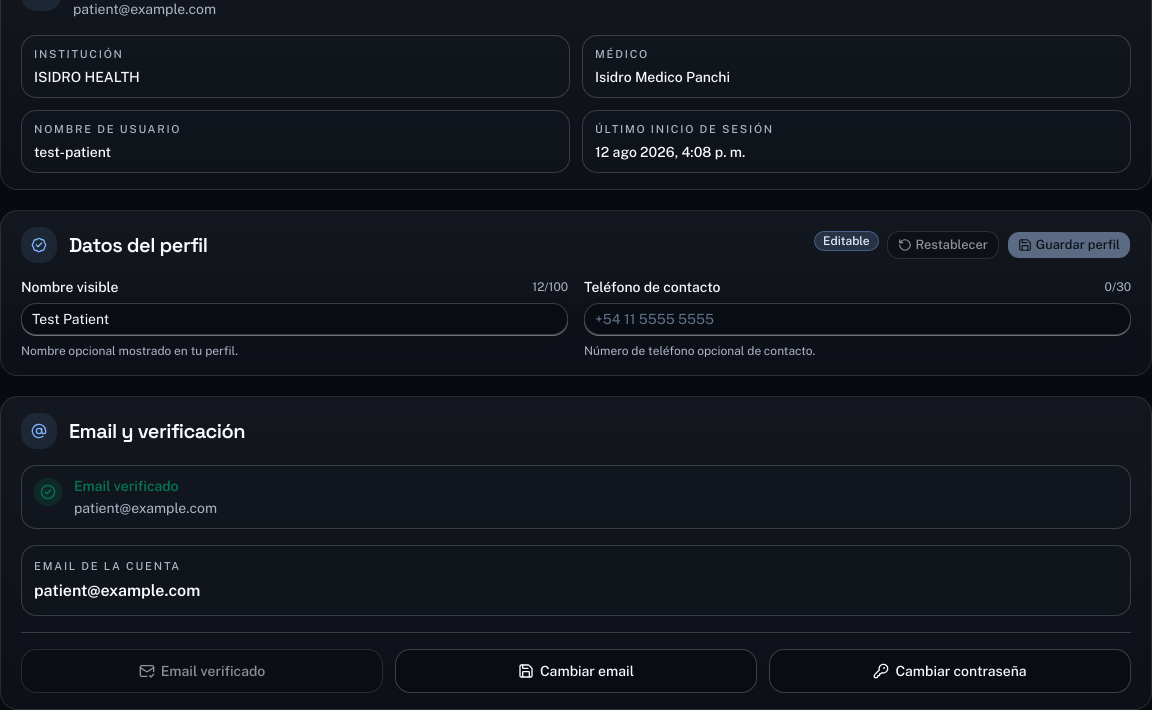
it: MyAccountWorkbench diagnostics › shows the account synchronization results after changing email
(page scrolled)
Click the button "Cambiar email" at (576, 671), box [395,649,757,693]
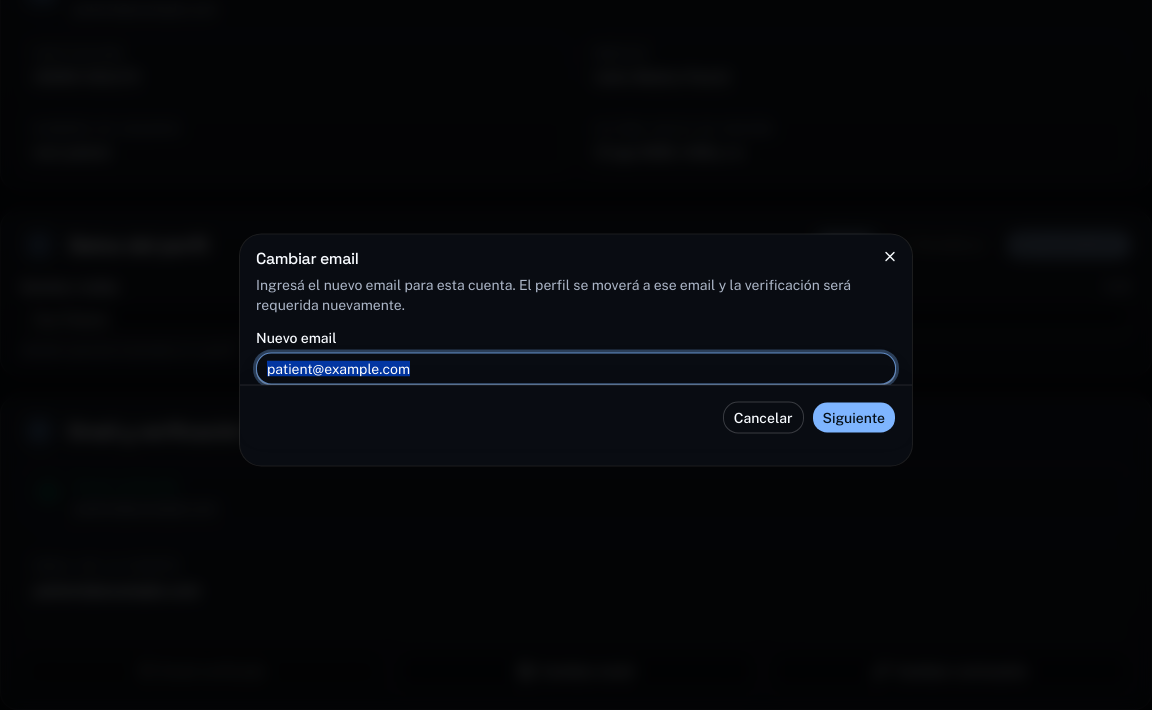
Replace the text in the field labelled "Nuevo email" with "new@example.com" at (576, 368), box [256,352,896,384]
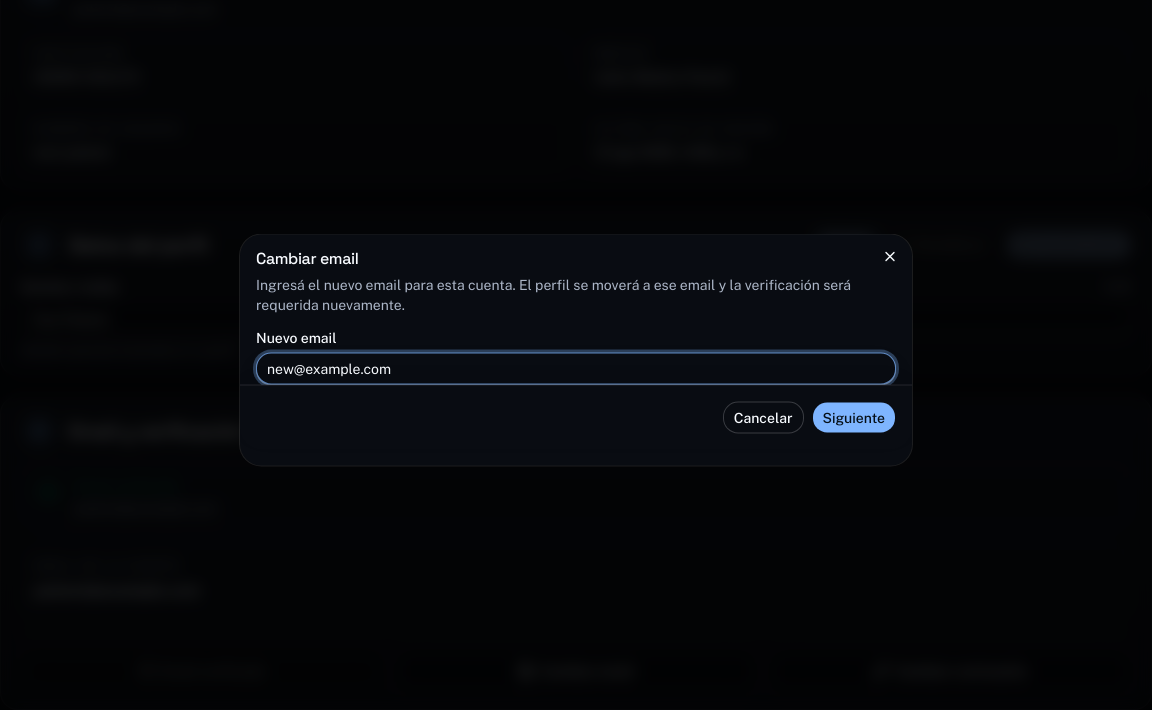
Click the button "Siguiente" at (854, 418), box [812,402,896,434]
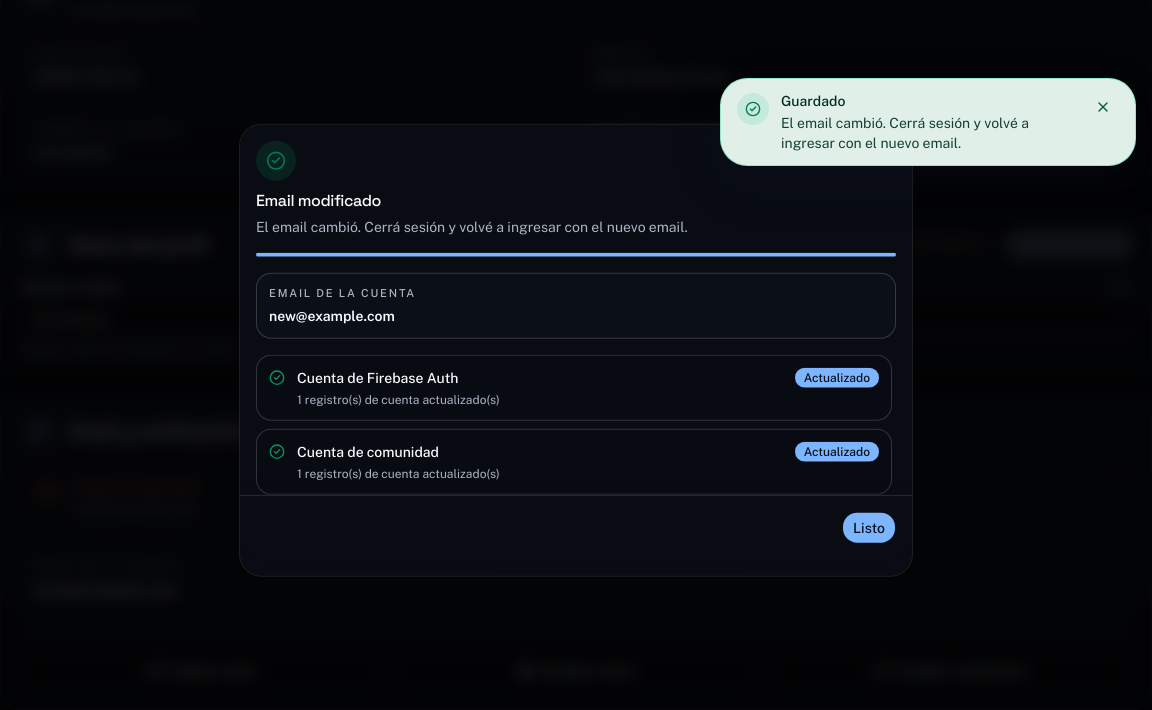
Now the heading "Email modificado" is shown, box [256,190,381,211]
Now the text "Cuenta de Firebase Auth" is shown, box [297,367,458,387]
Now the text "Cuenta de comunidad" is shown, box [297,441,439,461]
